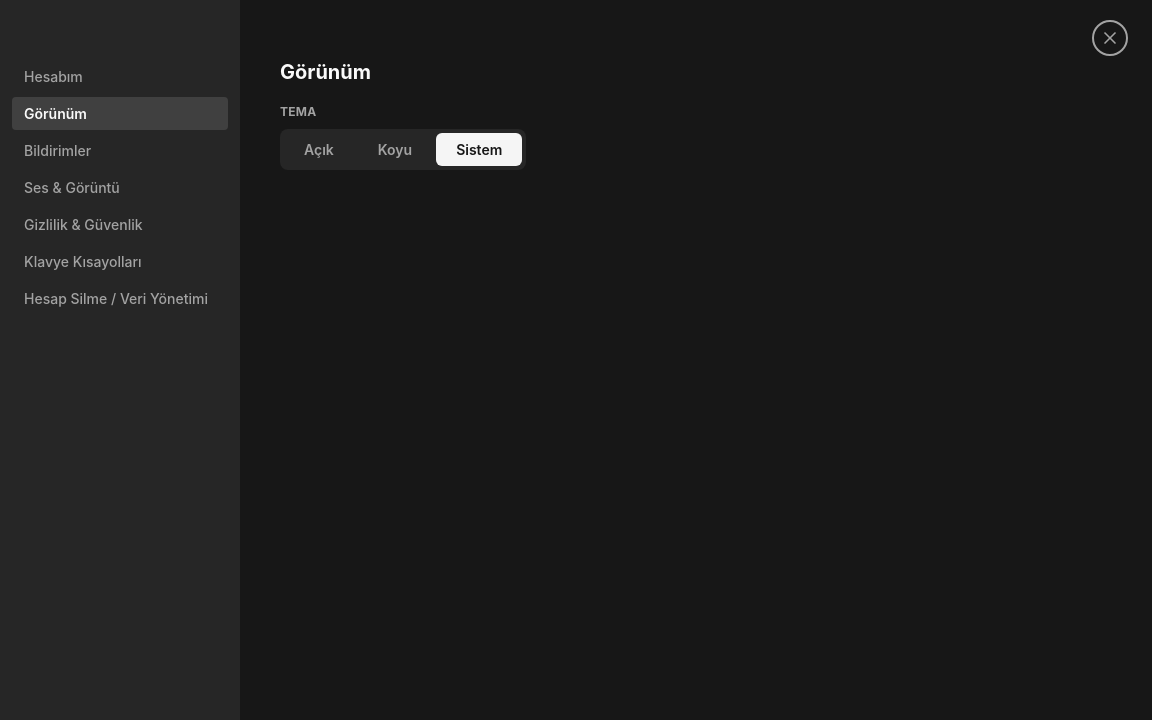
UserSettingsModal › still switches back to "Görünüm" and finds the theme selector again
Click the button "Klavye Kısayolları" at (120, 262), box [12,245,228,278]
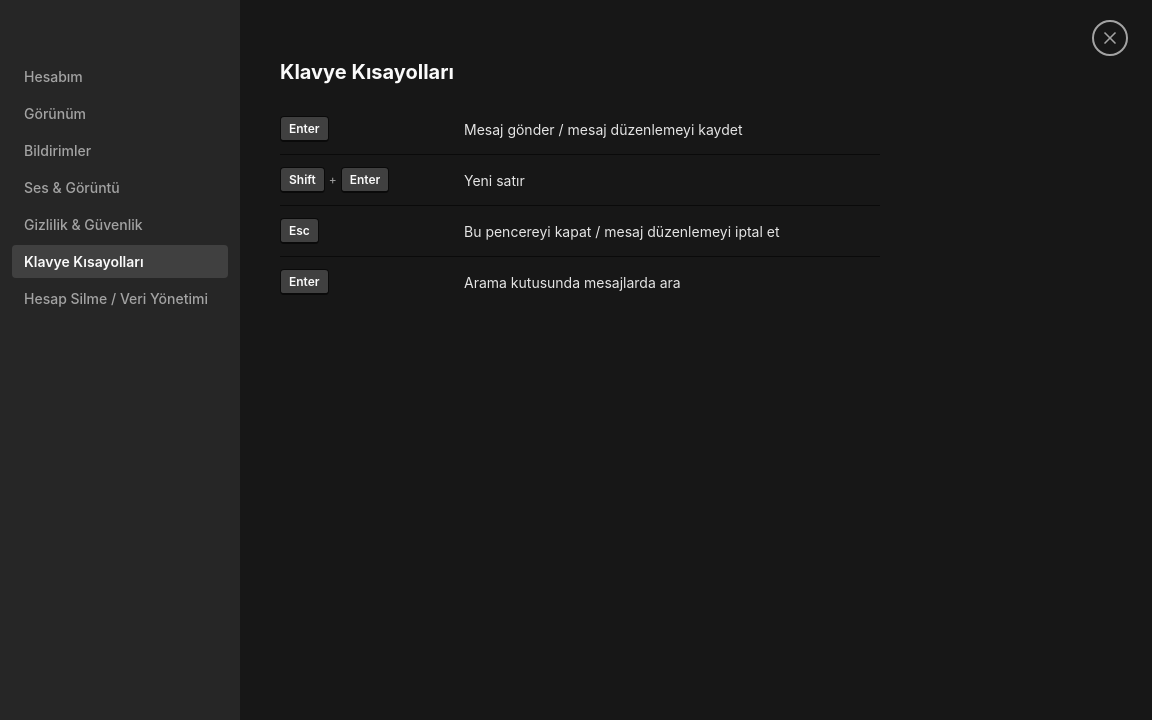
Click the button "Görünüm" at (120, 114), box [12,97,228,130]
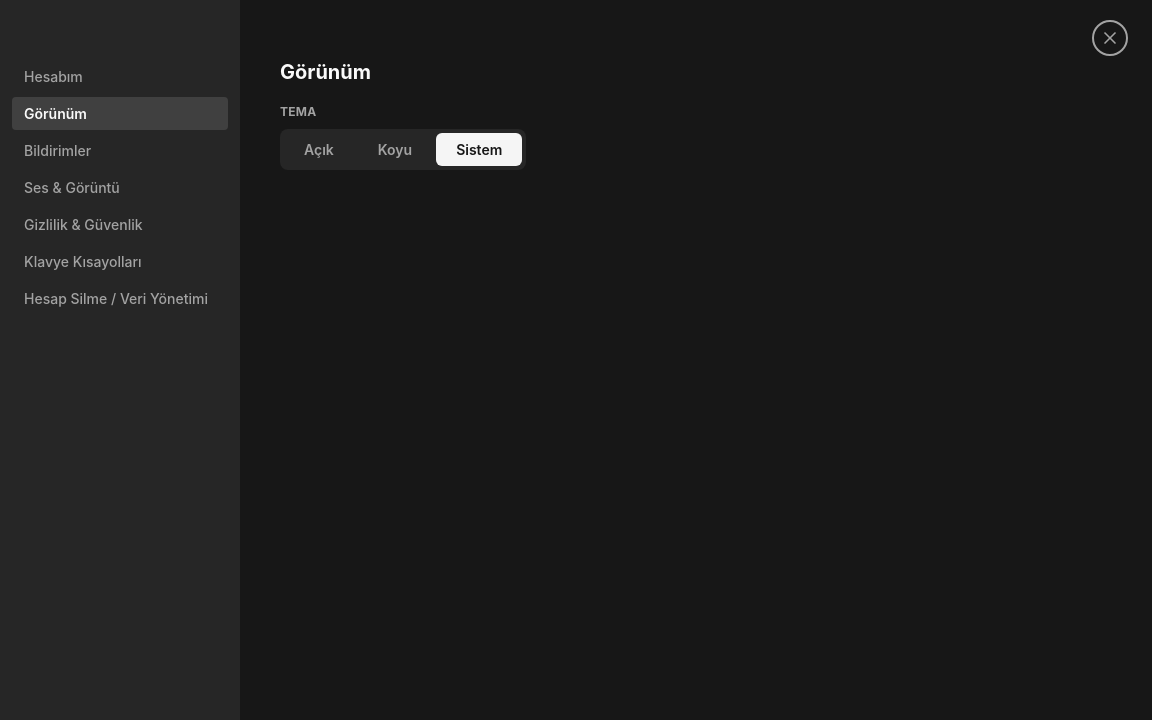
Now the element named "Tema" is shown, box [280,129,526,170]
